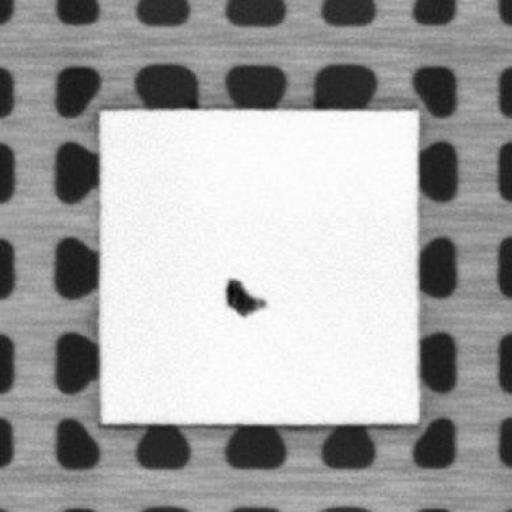DIE_INK: (219, 276, 267, 318)
